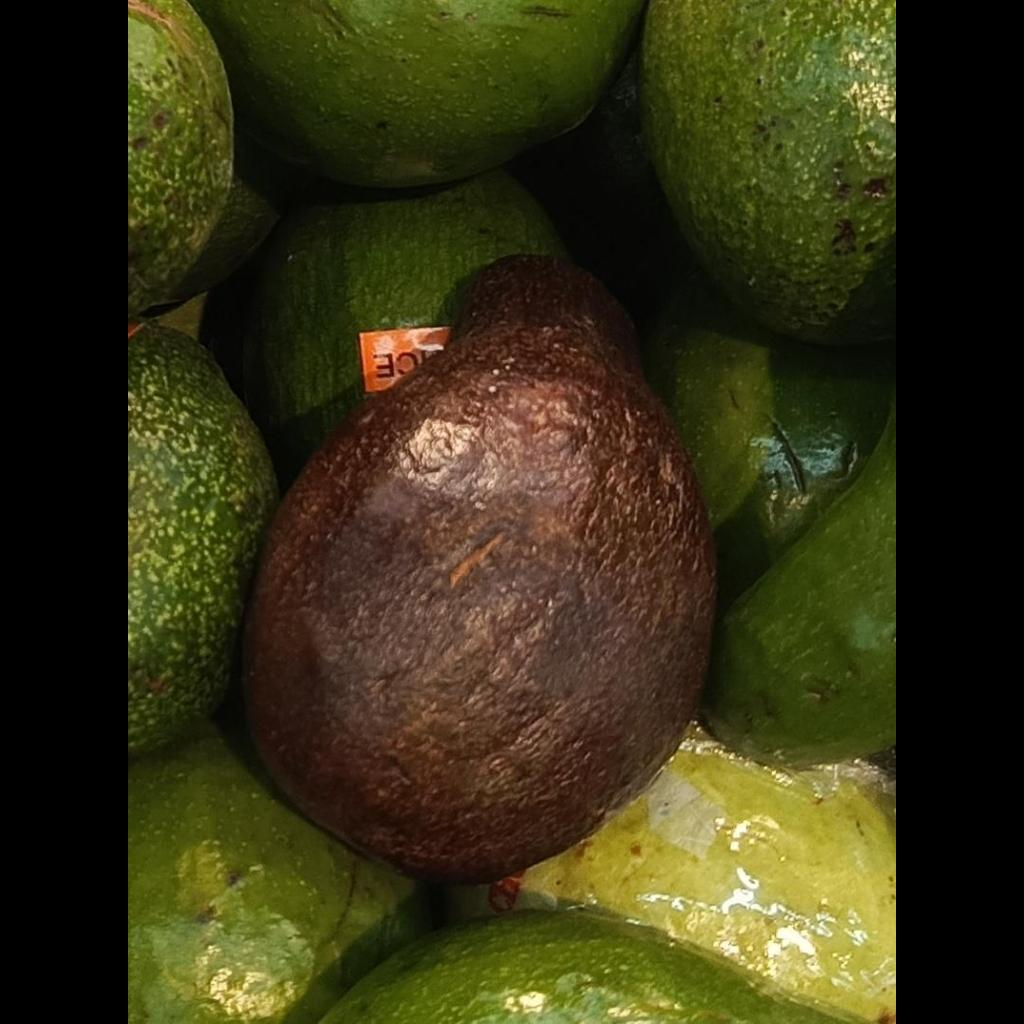anthracnose: (244, 256, 715, 881)
healthy: (638, 0, 896, 344), (194, 0, 643, 187)
